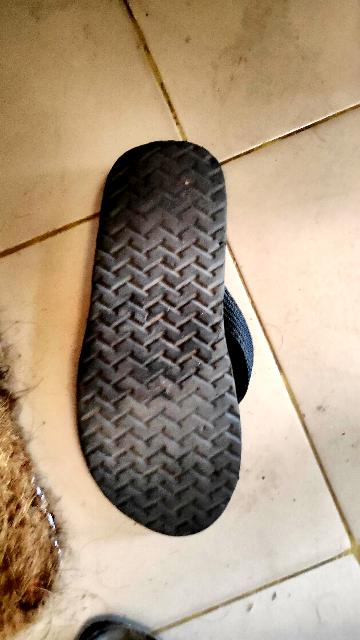sandal: (64, 100, 299, 545)
